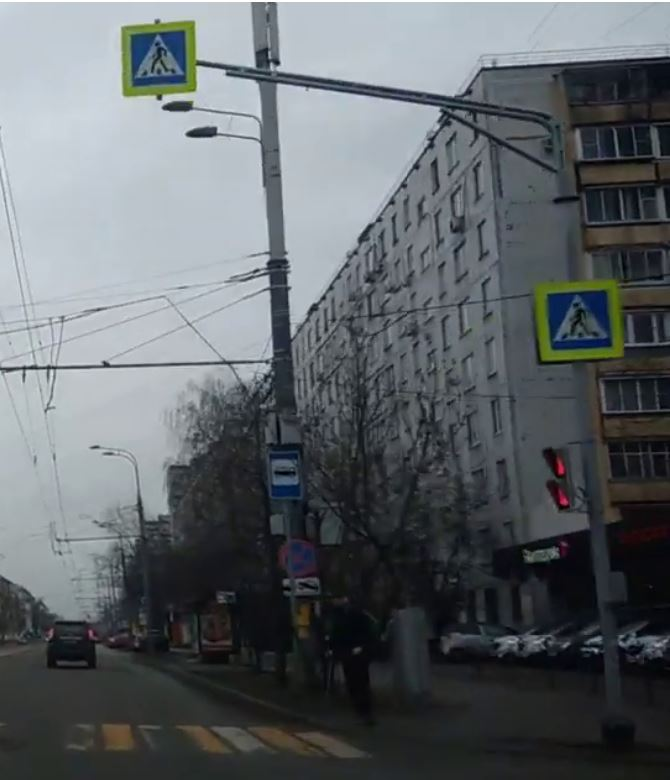Yaya Gecidi: (545, 295, 615, 347), (125, 30, 190, 84)
